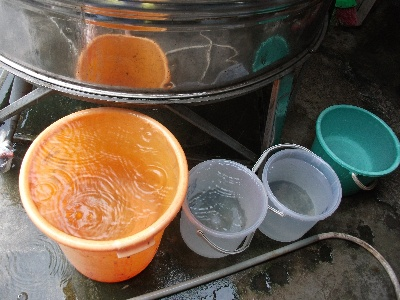bucket: (18, 107, 189, 283), (179, 158, 268, 259), (311, 104, 400, 196), (257, 149, 341, 243)
